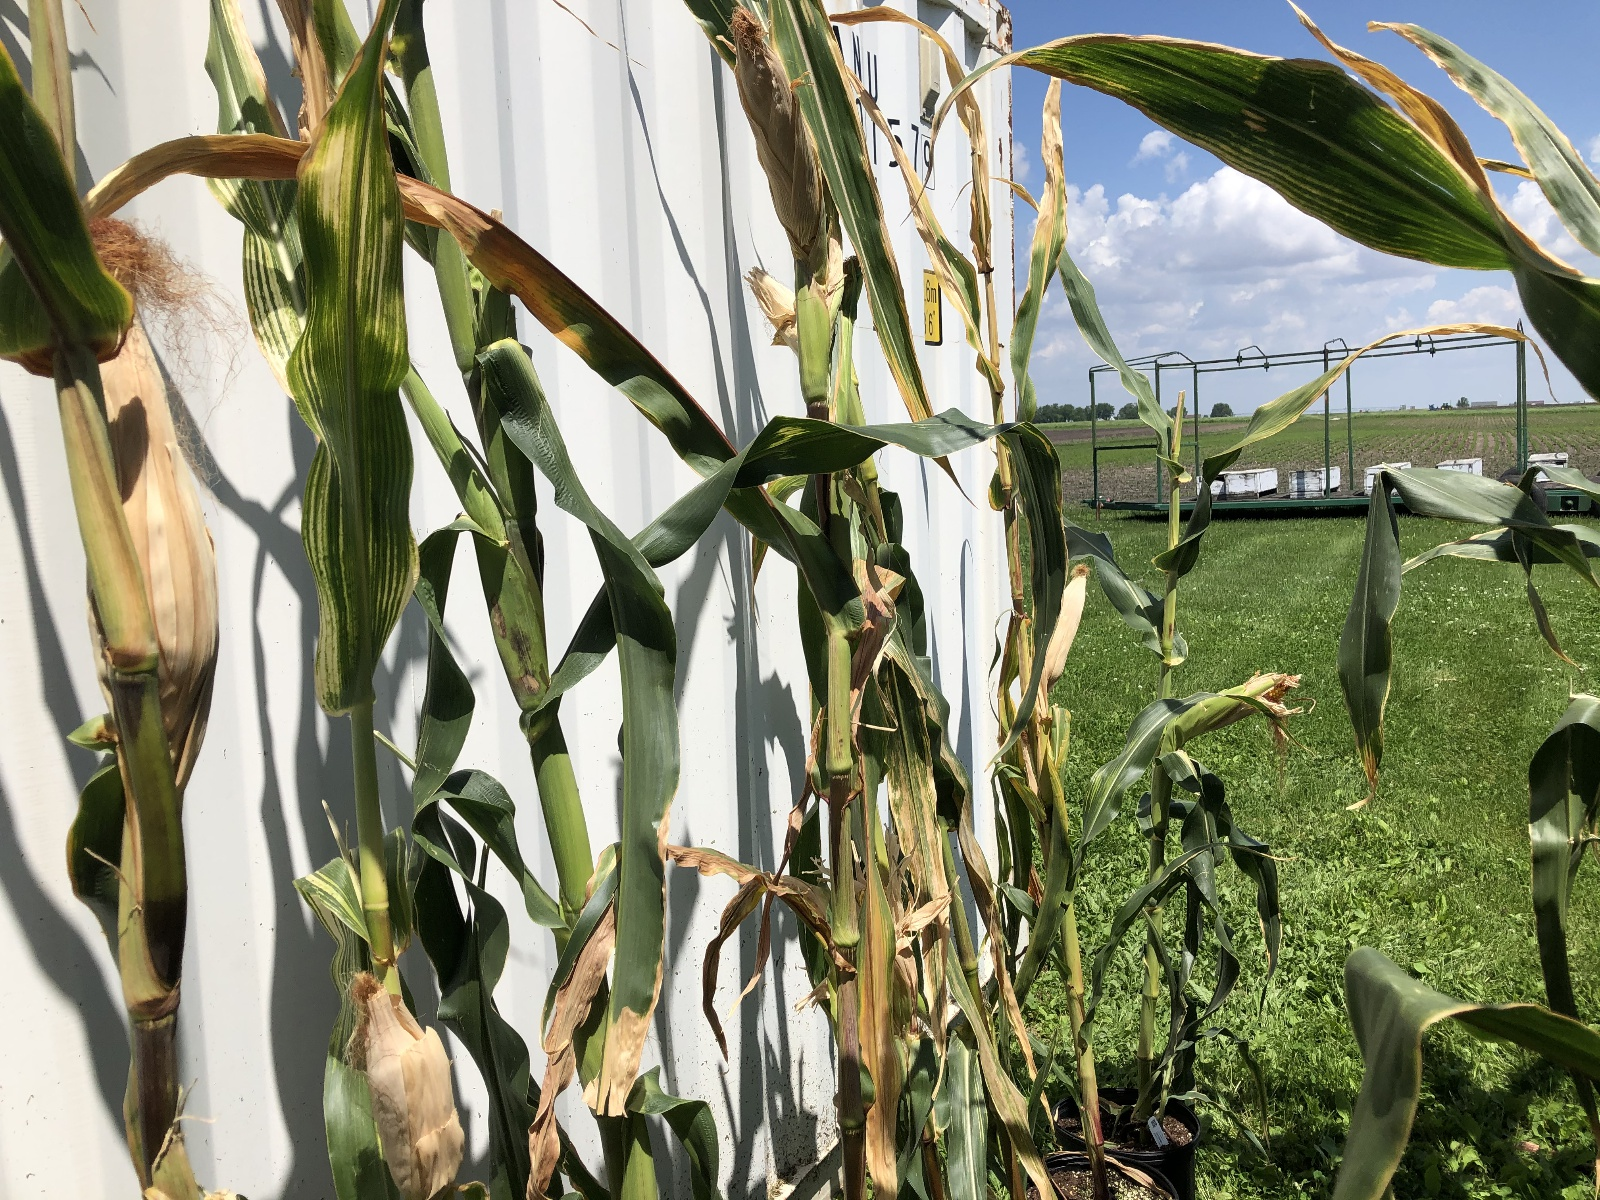ear: (74, 209, 231, 684), (341, 967, 466, 1194), (721, 8, 820, 247), (1167, 666, 1314, 744), (1032, 560, 1096, 682), (738, 260, 813, 352)
